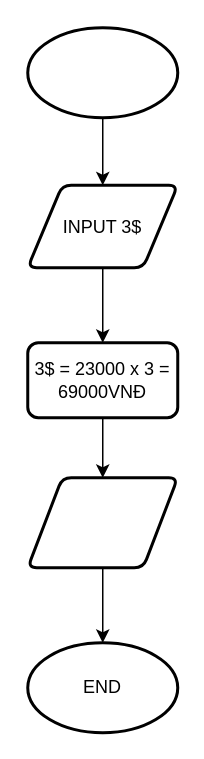
This 204x759 diagram has some shape labels left out. Each missing label, with the centre of its shape:
OUTPUT 69000VNĐ: (102,522)
START: (102,72)
